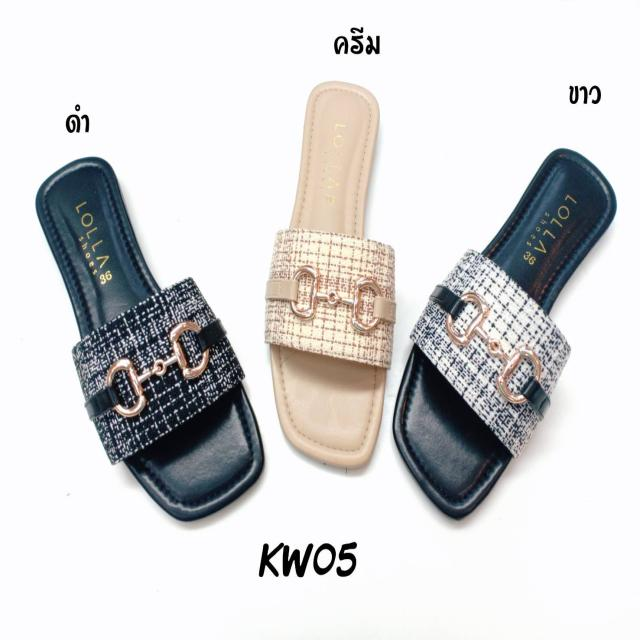black: (33, 155, 265, 523)
cream: (273, 80, 391, 468)
white: (392, 149, 621, 523)
